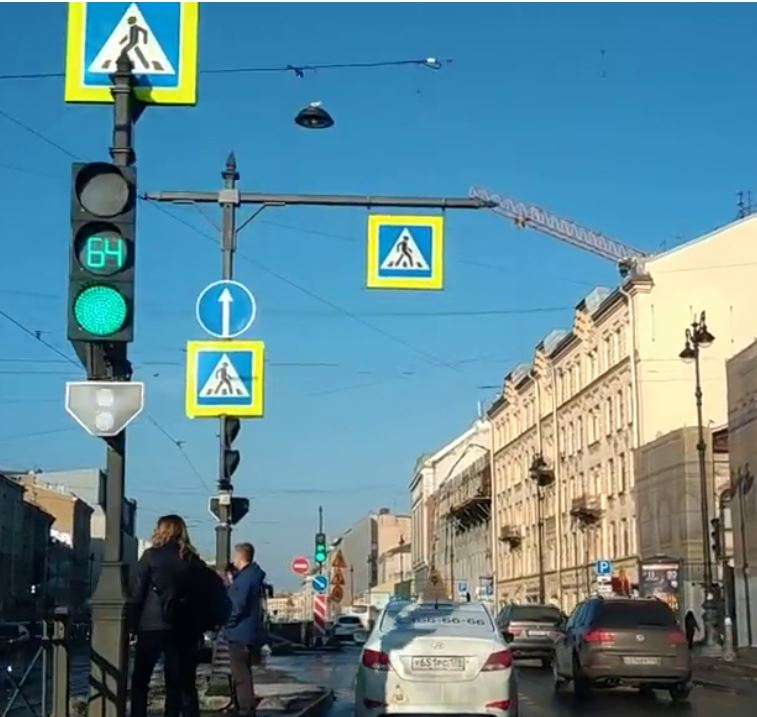Yaya Gecidi: (80, 1, 176, 84), (376, 219, 435, 279), (195, 345, 255, 404)
